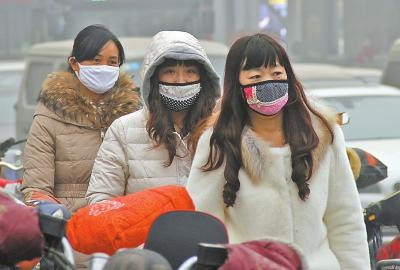OK: (242, 58, 290, 117), (80, 50, 121, 95)
WRONG: (158, 61, 199, 112)
